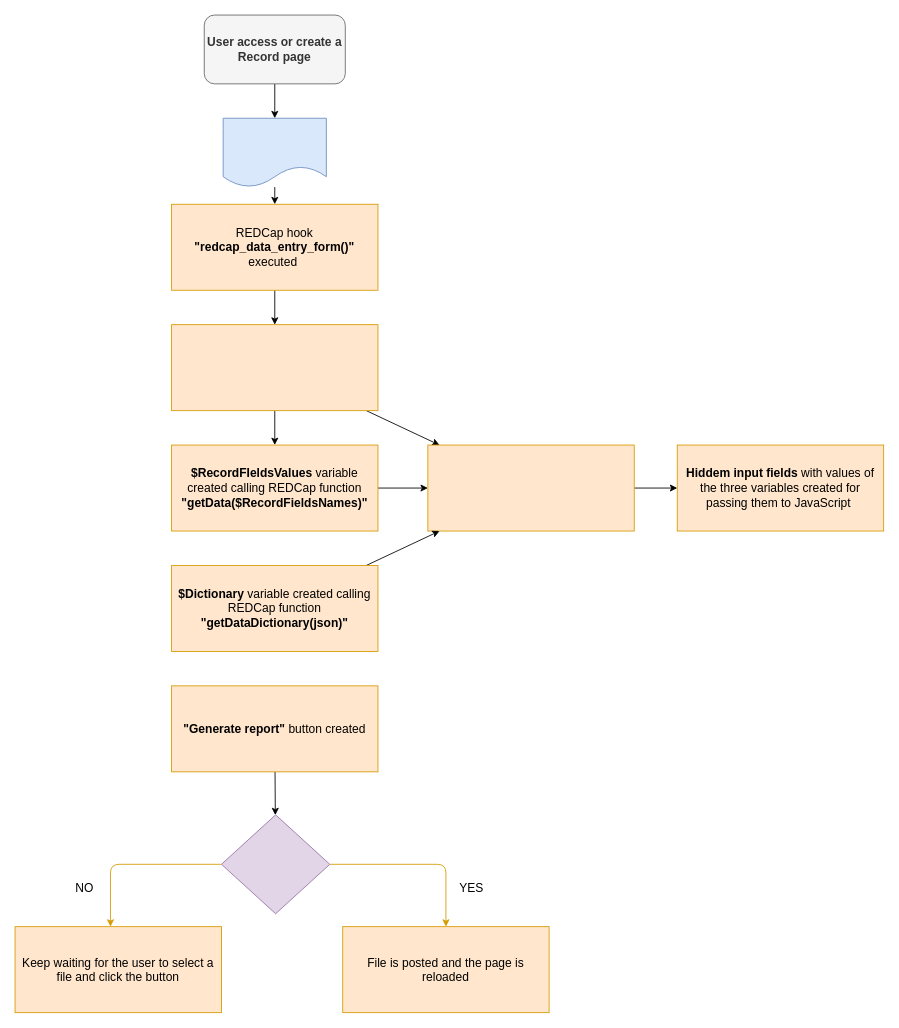
This 899x1028 diagram has some shape labels left out. Here are the shapes that lost their labels. From the top down, the centre of each, then its label:
(274,152): ExternalModule PHP executed
(274,367): "$RecordFieldsNames" variable created calling REDCap function "getFieldNames()"
(530,487): Variables converted to JSON format
(275,864): Is the button pressed?
